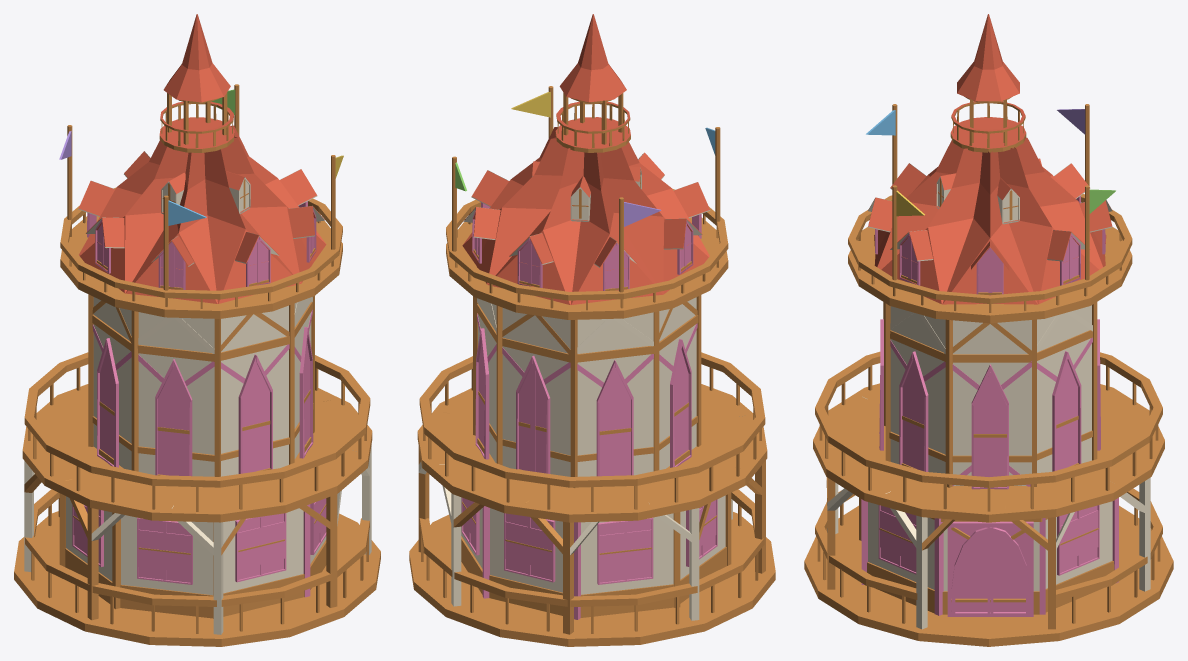
File: building.glb
3 views of the same model, side by side, from view 1: azimuth 30°, elevation 25°; view 2: azimuth 150°, elevation 25°; view 3: azimuth 270°, elevation 25° (orthographic).
Parts seen in each view (by area): view 1: TownHall_Building; view 2: TownHall_Building; view 3: TownHall_Building.
Part boxes in pixels (left/top/right/bottom): TownHall_Building: left=14, top=14, right=380, bottom=646; TownHall_Building: left=409, top=14, right=775, bottom=646; TownHall_Building: left=804, top=14, right=1173, bottom=646.
Bounding box in the file's own units: 0.8952 × 1.49 × 0.8952.
